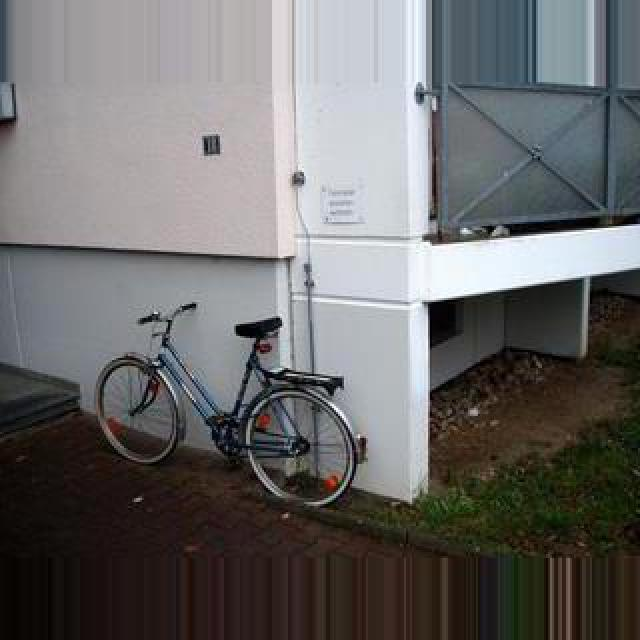Person: (94, 305, 364, 509)
